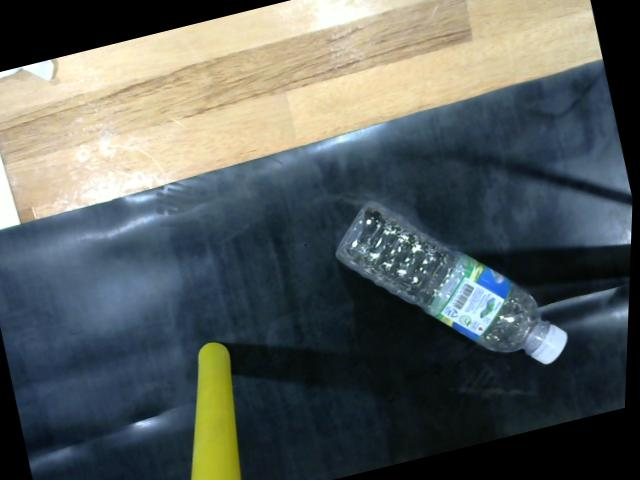bottle: (331, 194, 574, 371)
